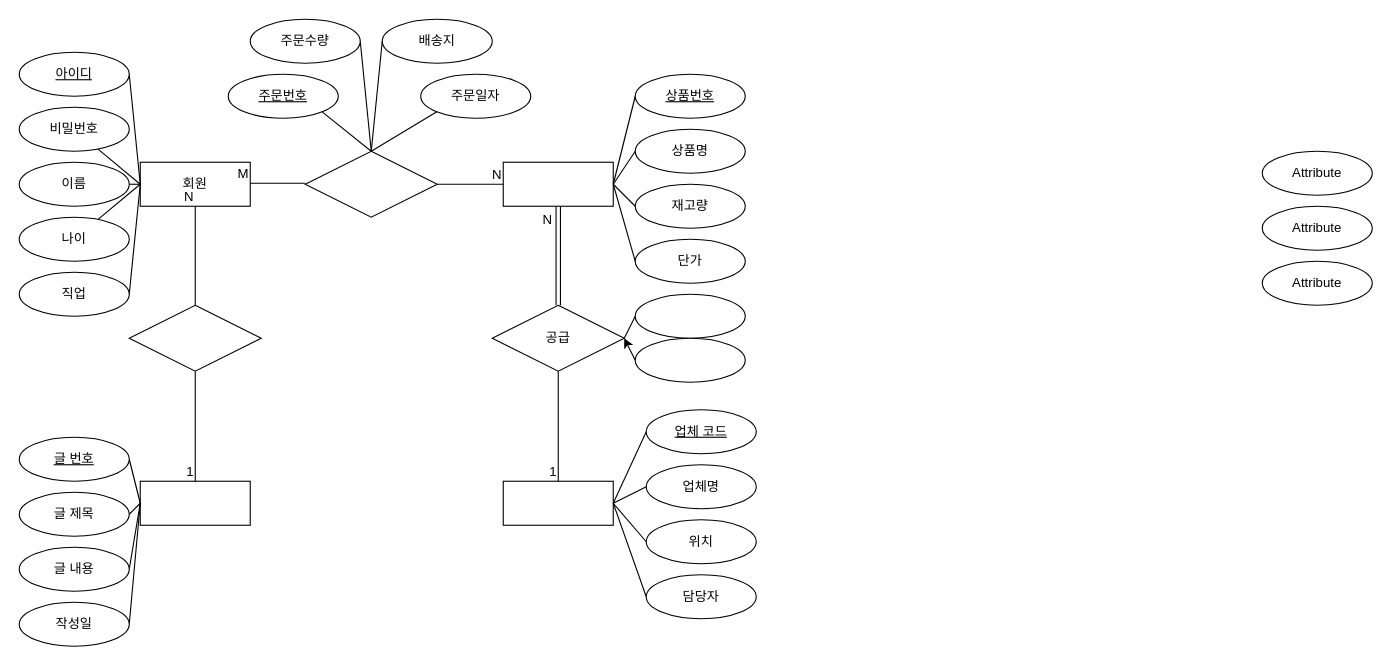
Image size: 1392x666. Some labels were removed from this diagram. Here are the shapes that lost their labels. From the top down, the centre of each, then its label:
(x=370, y=183): 주문
(x=557, y=183): 상품
(x=689, y=315): 공급일자
(x=194, y=337): 작성
(x=689, y=359): 공급량
(x=194, y=502): 게시글
(x=557, y=502): 제조업체
